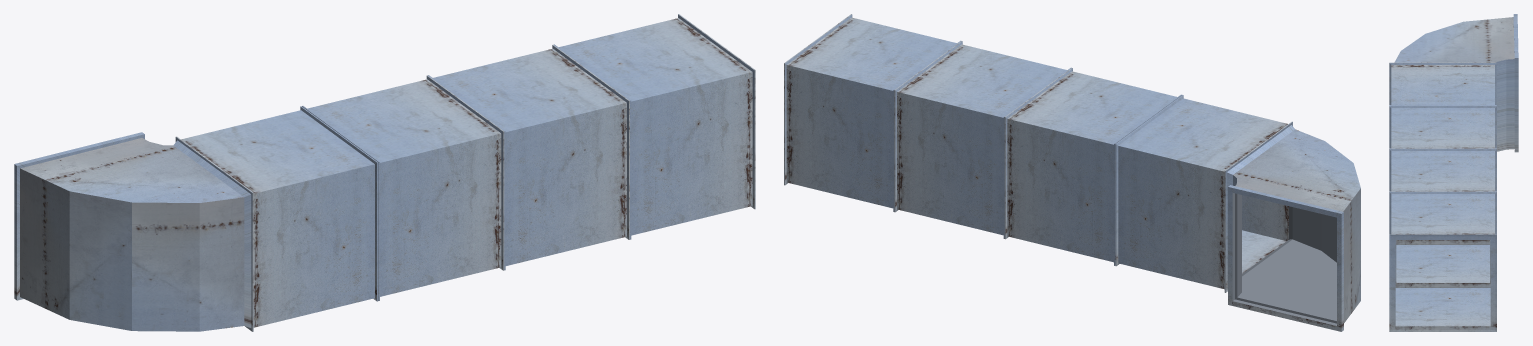
File: SQUARE TOP.fbx
3 views of the same model, side by side, from view 1: azimuth 30°, elevation 25°; view 2: azimuth 150°, elevation 25°; view 3: azimuth 270°, elevation 25° (orthographic). The views are drawn at different scales.
Visible parts, largest first — view 1: SQUARE TOP.001; view 2: SQUARE TOP.001; view 3: SQUARE TOP.001.
Boxes of the visible parts, box(x1,y1,x2,y2) form: SQUARE TOP.001: box(14, 14, 755, 331); SQUARE TOP.001: box(784, 14, 1360, 331); SQUARE TOP.001: box(1389, 14, 1518, 331).
Bounding box in the file's own units: 17.49 × 3.57 × 4.3.
